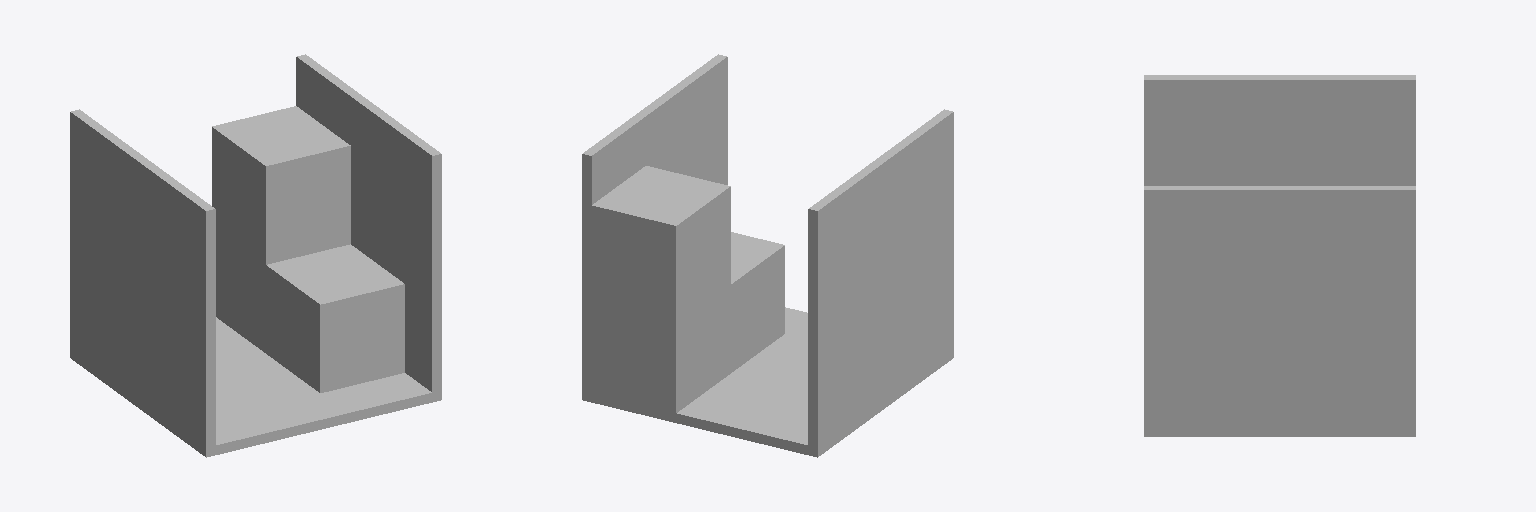
File: coridor_straight_stairs.obj
3 renders of one model, left to right at view 1: azimuth 30°, elevation 25°; view 2: azimuth 150°, elevation 25°; view 3: azimuth 270°, elevation 25°, orthographic.
Parts seen in each view (by area): view 1: pillar, Wall, step, step.001, floor; view 2: pillar, step, Wall, floor, step.001; view 3: Wall, pillar, step.
Part boxes in pixels (x1,y1,x2,y2): pillar: (70, 109, 215, 456); Wall: (296, 54, 441, 400); step: (212, 106, 350, 349); step.001: (216, 233, 404, 392); floor: (70, 317, 441, 457); pillar: (808, 109, 953, 455); step: (582, 166, 730, 422); Wall: (582, 54, 727, 400); floor: (582, 307, 953, 457); step.001: (582, 232, 784, 421); Wall: (1144, 186, 1415, 436); pillar: (1144, 75, 1415, 185); step: (1307, 240, 1415, 436).
Bounding box in the file's own units: 5 × 5 × 5.